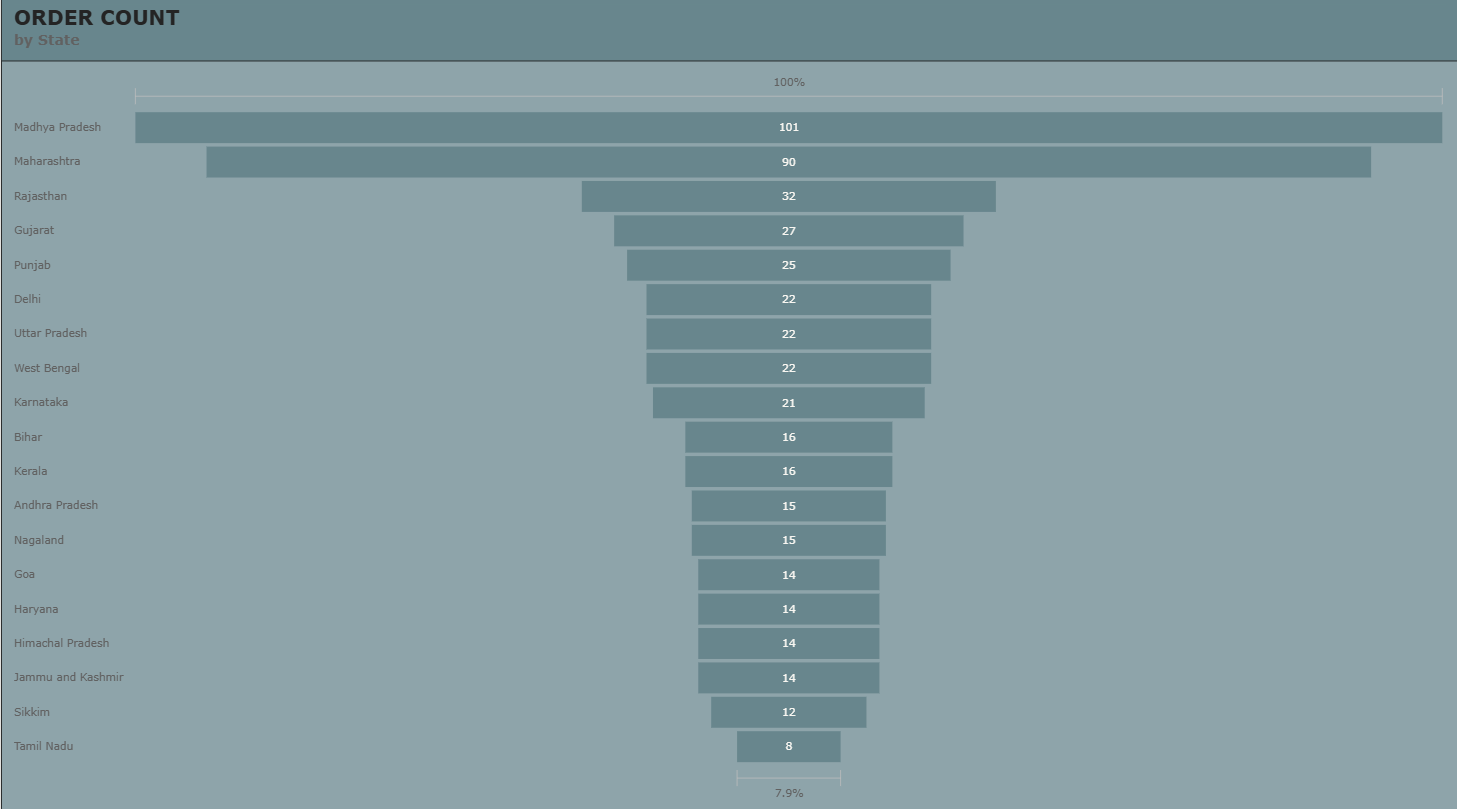

The page's visual inventory and layout, read from the dashboard file:
{"tool":"powerbi","page":{"name":"FUNNEL CHART","canvas":[1920,1080],"ordinal":4},"visuals":[{"type":"funnel","fields":{"Category":["List of Orders.State"],"Y":["Order Details.order count"]},"box":[0,0,1920.3,1080],"z":0}]}

Visuals, with their boxes in screenshot pixels (x1, y1, x2, y2), scaled from the page's 1920x1080 canvas onto the 1457x809 screenshot:
funnel - List of Orders.State x Order Details.order count: {"x1": 0, "y1": 0, "x2": 1456, "y2": 808}
